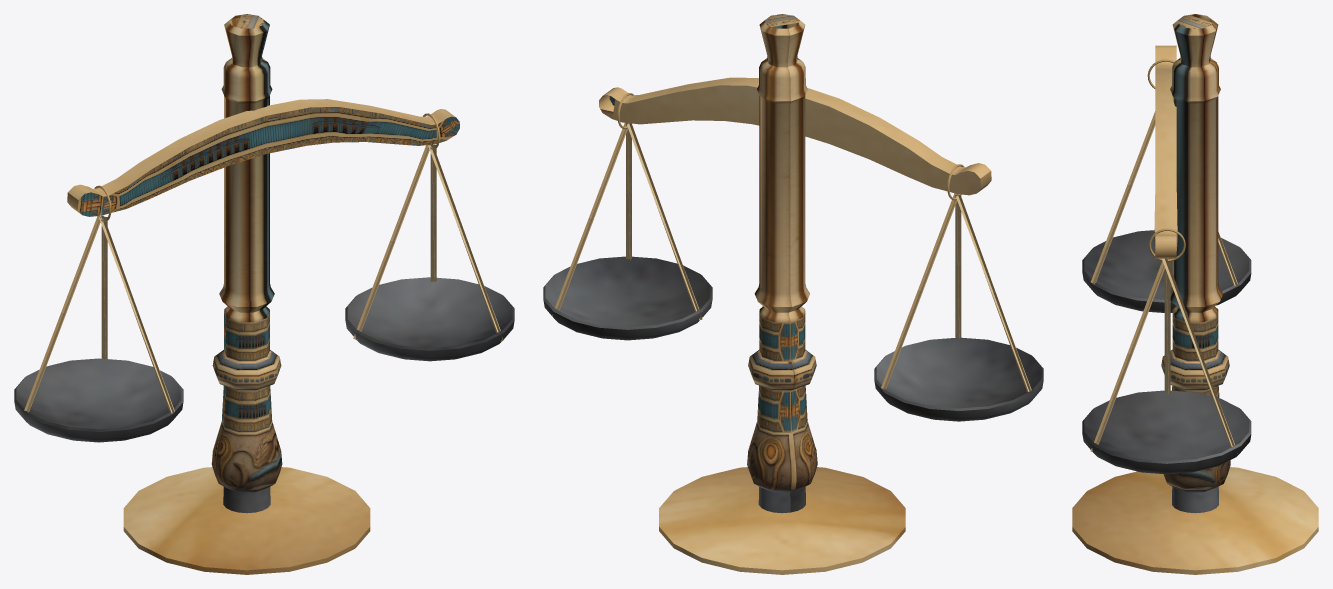
Rendered from Puzzle 3 Scale.fbx.
3 views of the same model, side by side, from view 1: azimuth 30°, elevation 25°; view 2: azimuth 150°, elevation 25°; view 3: azimuth 270°, elevation 25° (orthographic).
Visible parts, largest first — view 1: Puzzle 3 Scale .005, Puzzle 3 Scale, Puzzle 3 Scale .002, Puzzle 3 Scale .003; view 2: Puzzle 3 Scale .005, Puzzle 3 Scale .002, Puzzle 3 Scale .003, Puzzle 3 Scale; view 3: Puzzle 3 Scale .005, Puzzle 3 Scale .003, Puzzle 3 Scale .002, Puzzle 3 Scale.
Part boxes in pixels (<box>): Puzzle 3 Scale .005: <box>123,14,370,574</box>; Puzzle 3 Scale: <box>67,99,459,221</box>; Puzzle 3 Scale .002: <box>14,215,183,442</box>; Puzzle 3 Scale .003: <box>345,144,514,361</box>; Puzzle 3 Scale .005: <box>659,14,905,574</box>; Puzzle 3 Scale .002: <box>874,193,1043,421</box>; Puzzle 3 Scale .003: <box>543,123,712,340</box>; Puzzle 3 Scale: <box>599,77,991,200</box>; Puzzle 3 Scale .005: <box>1072,14,1318,574</box>; Puzzle 3 Scale .003: <box>1082,258,1251,474</box>; Puzzle 3 Scale .002: <box>1082,111,1251,312</box>; Puzzle 3 Scale: <box>1147,45,1185,261</box>.
Size of the model in its own units: 663 by 661 by 295.
